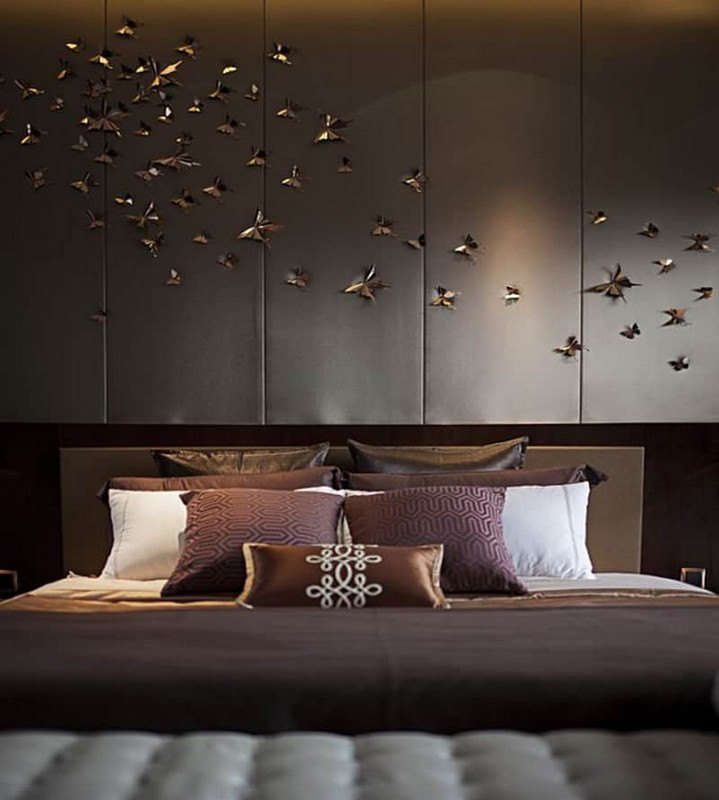bed: (3, 419, 719, 736)
